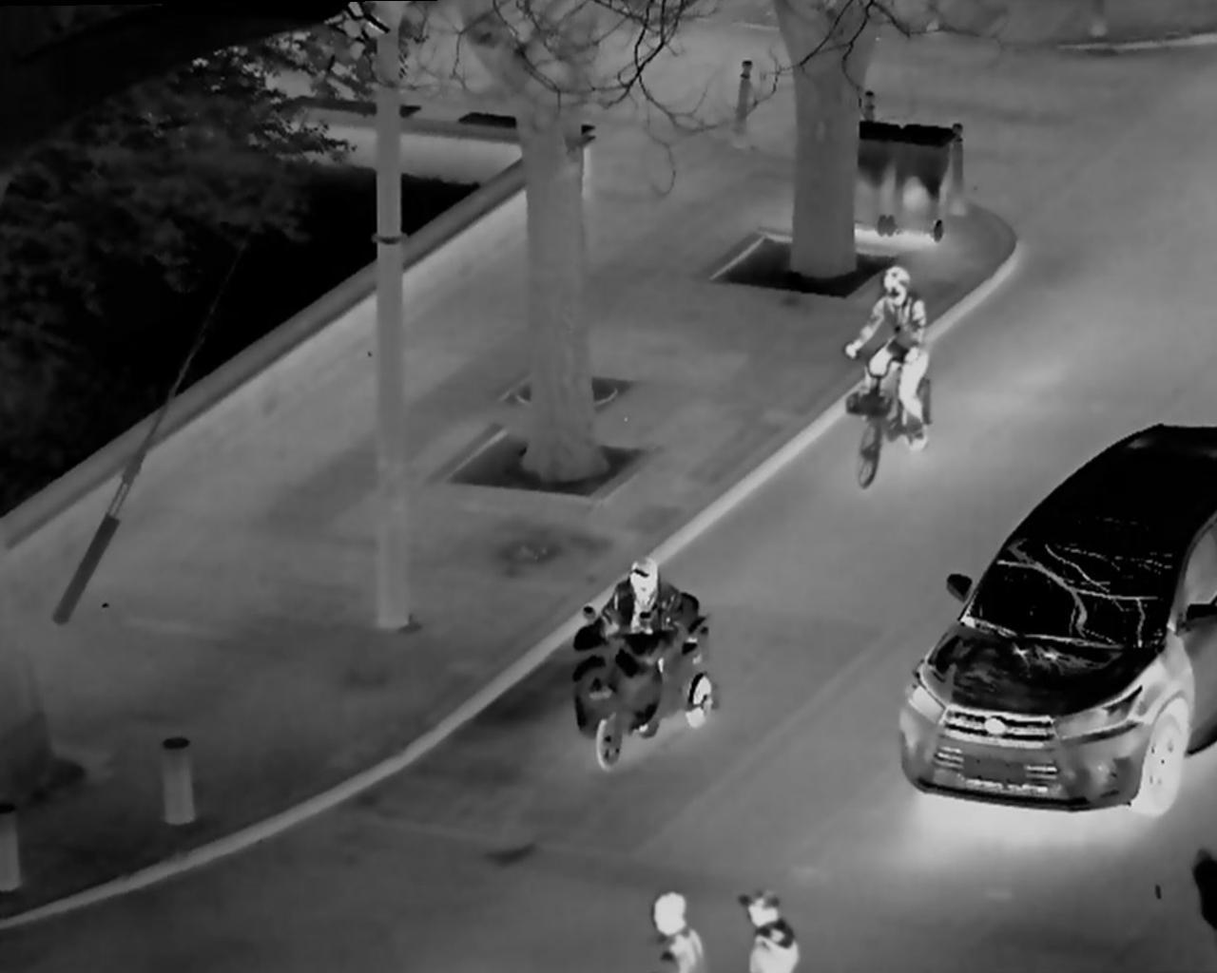person: (579, 541, 702, 723), (846, 261, 937, 466), (728, 873, 807, 973), (643, 875, 710, 969)
